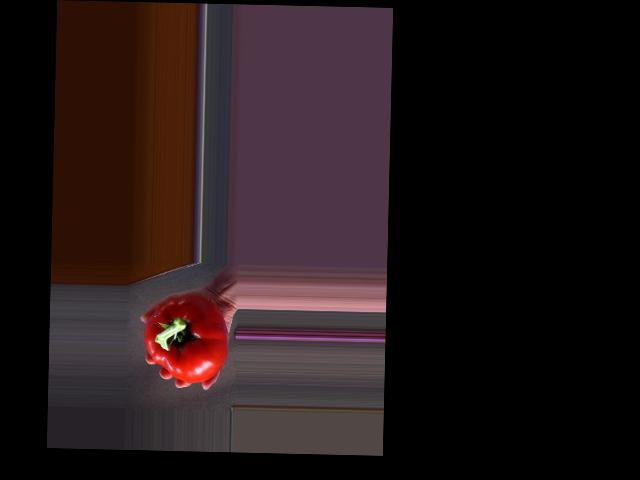tomato: (143, 294, 229, 384)
